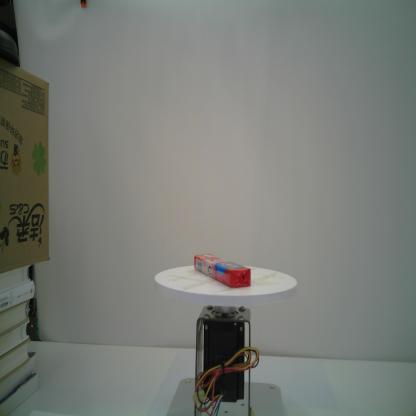Candy: (194, 254, 251, 288)
